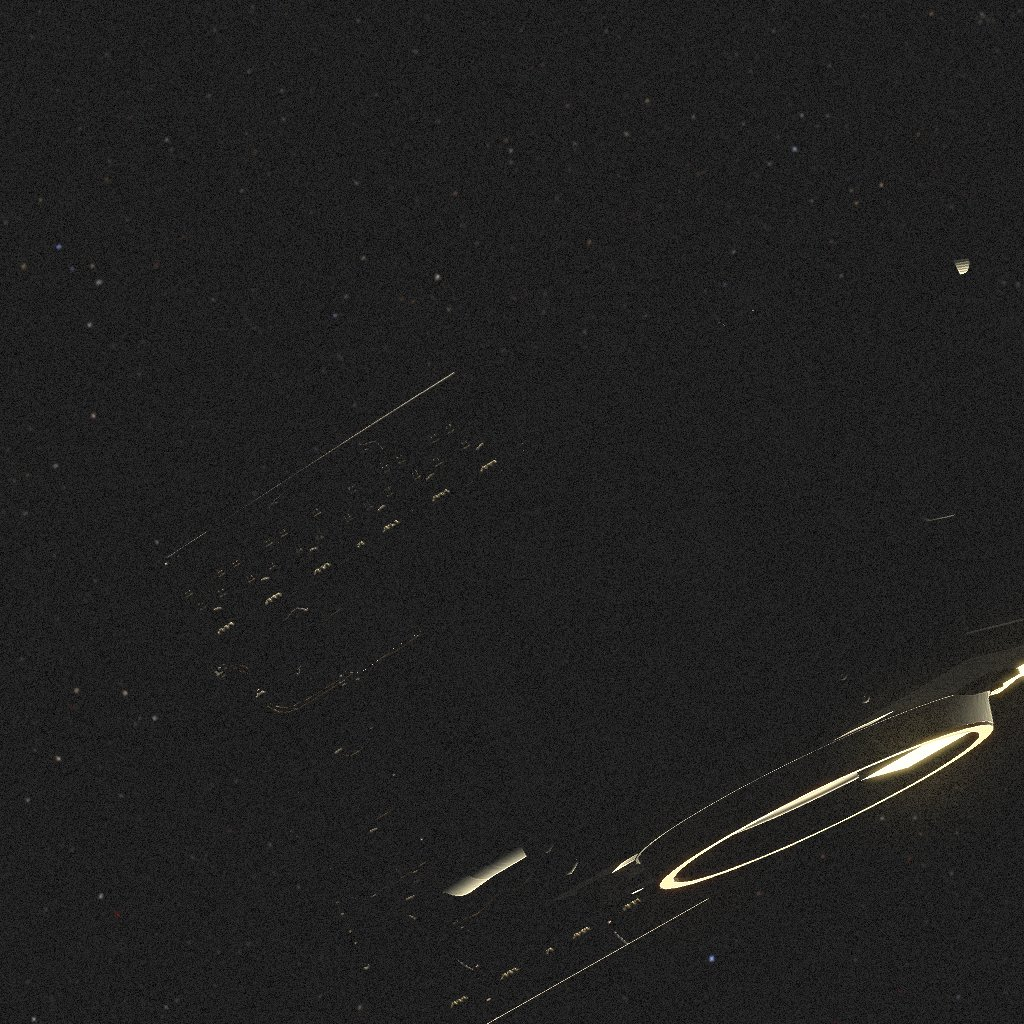proba_3_csc: (160, 238, 1024, 1024)
